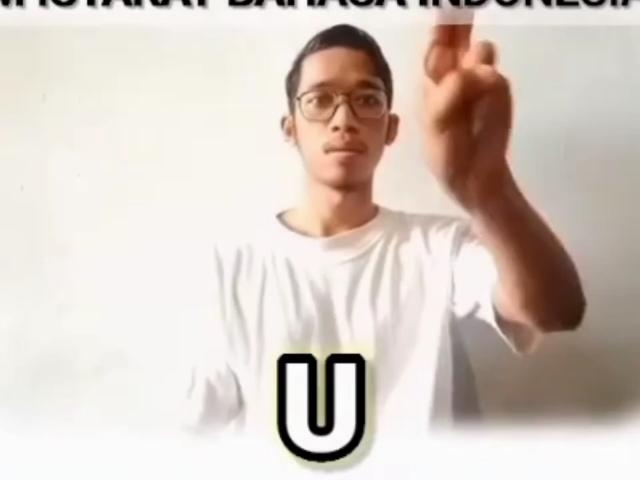U: (411, 9, 534, 202)
